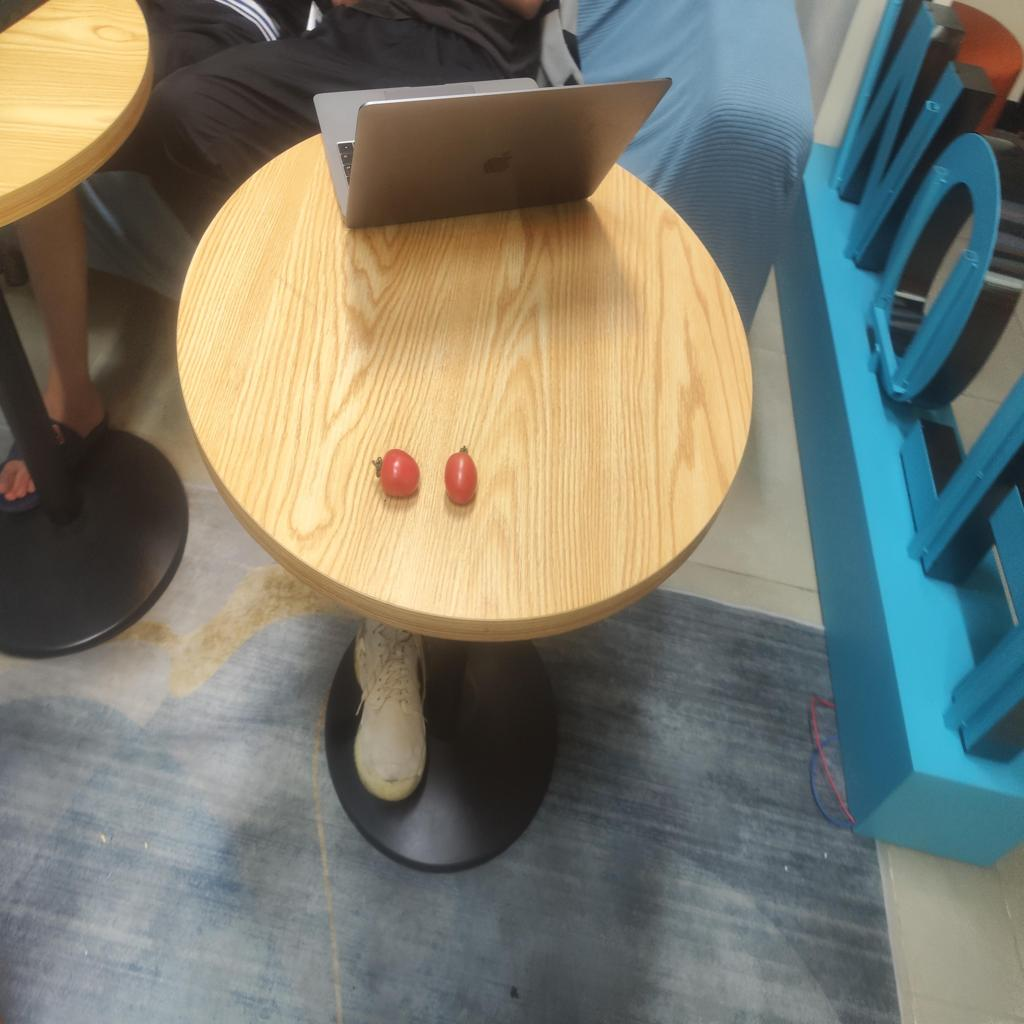tomato: (374, 452, 423, 500), (441, 450, 482, 504)
